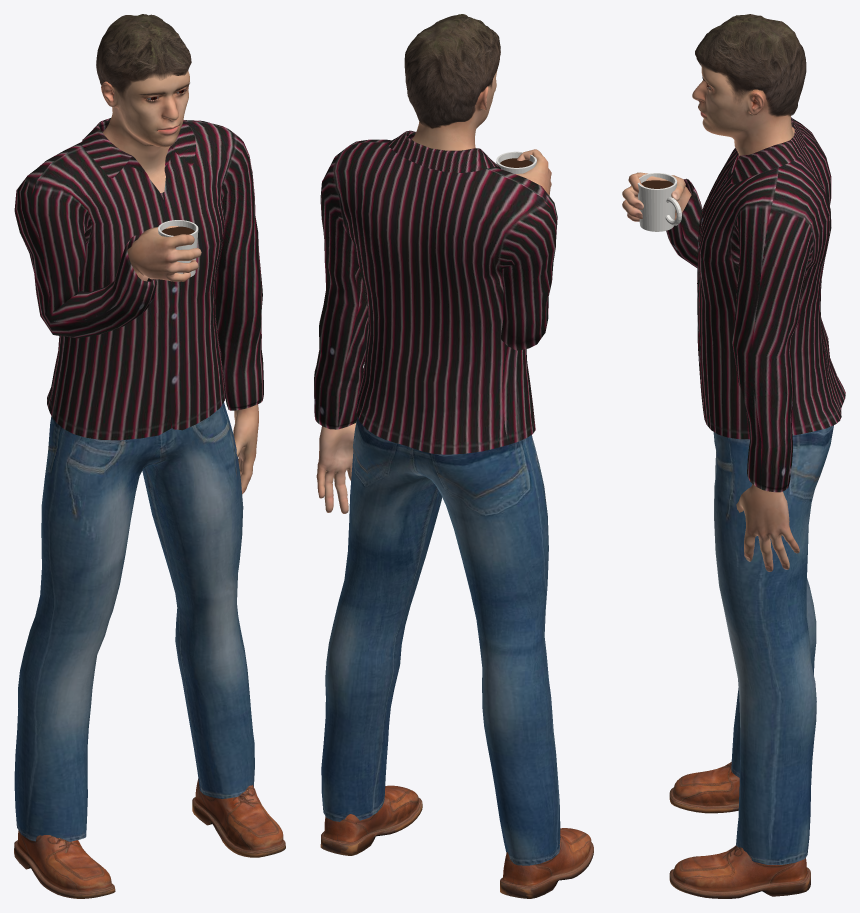
Rendered from person.glb.
3 views of the same model, side by side, from view 1: azimuth 30°, elevation 25°; view 2: azimuth 150°, elevation 25°; view 3: azimuth 270°, elevation 25° (orthographic).
Visible parts, largest first — view 1: male_casualsuit03, body, shoes01, short02, mug; view 2: male_casualsuit03, short02, shoes01, body; view 3: male_casualsuit03, body, shoes01, short02, mug.
Part boxes in pixels (<box>): male_casualsuit03: <box>14,118,263,841</box>; body: <box>101,71,258,494</box>; shoes01: <box>14,779,285,898</box>; short02: <box>96,14,191,99</box>; mug: <box>158,220,198,276</box>; male_casualsuit03: <box>314,130,560,865</box>; short02: <box>404,14,500,128</box>; shoes01: <box>320,785,593,898</box>; body: <box>316,70,551,513</box>; male_casualsuit03: <box>666,117,845,864</box>; body: <box>622,65,799,571</box>; shoes01: <box>669,762,810,898</box>; short02: <box>695,14,806,116</box>; mug: <box>637,173,677,231</box>.
Bounding box in the file's own units: 0.5172 × 1.72 × 0.423.
9 materials, 7 textured.
